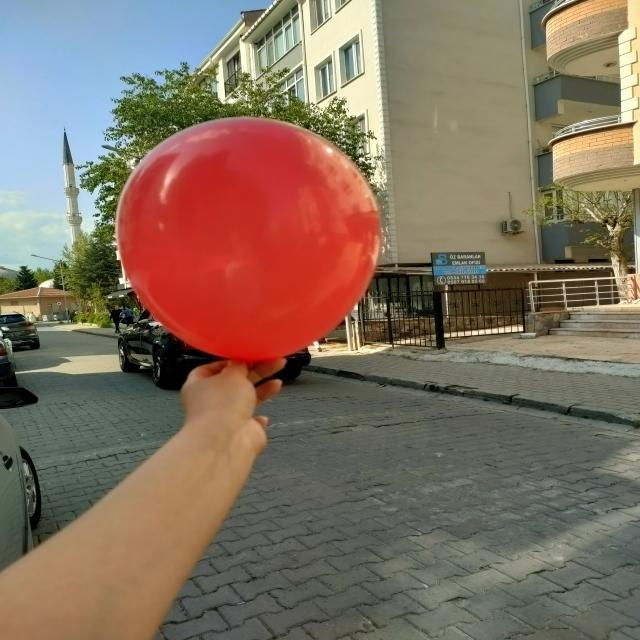red: (122, 118, 382, 361)
